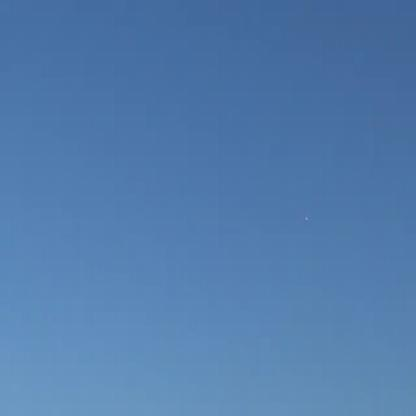CIV_Plane: (304, 214, 310, 222)
